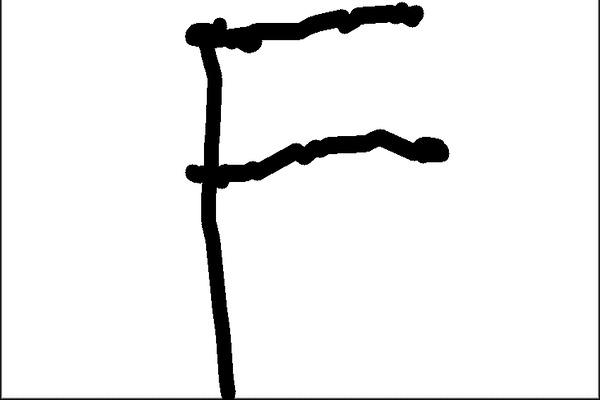F: (175, 2, 453, 397)
